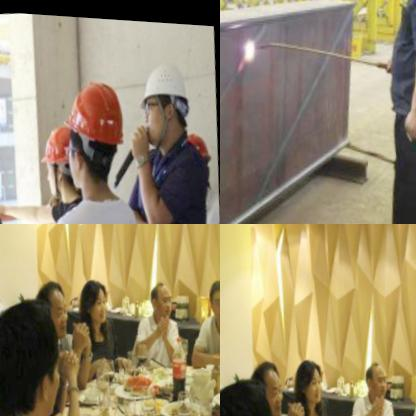head: (0, 294, 71, 416), (220, 374, 286, 416), (35, 276, 75, 340), (250, 356, 289, 416), (76, 275, 113, 329), (291, 355, 328, 409), (147, 276, 179, 318), (362, 356, 394, 398), (203, 273, 220, 323)
helmet: (59, 71, 132, 191), (133, 48, 198, 144), (39, 117, 95, 205), (183, 121, 218, 173)
